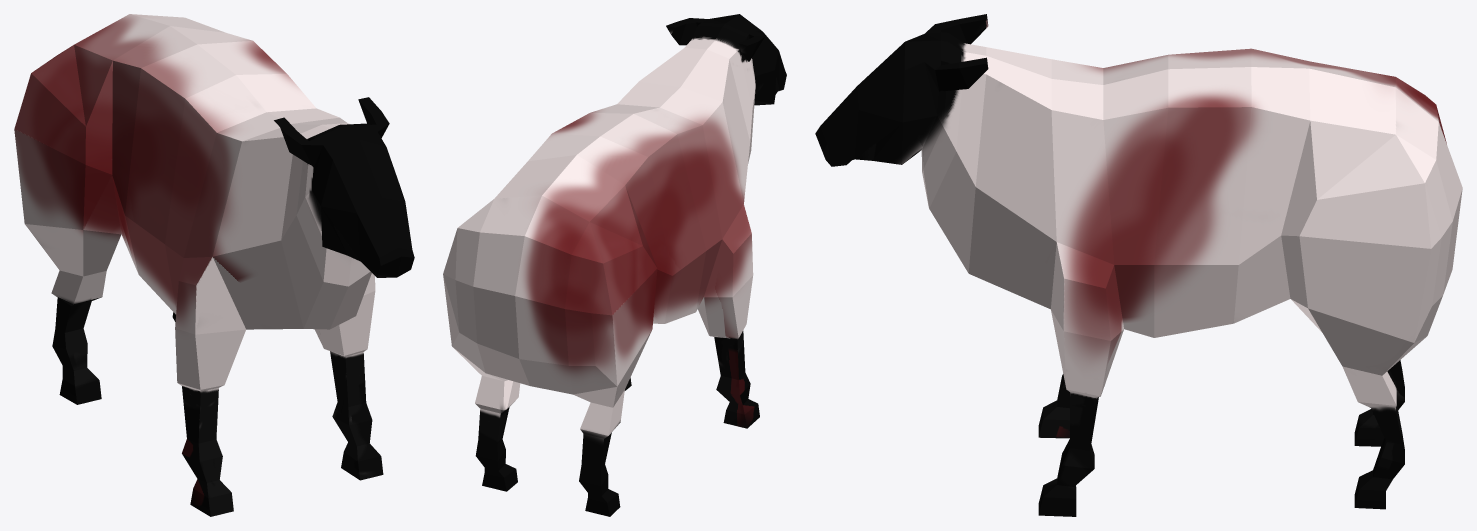
Rendered from Sheep1.fbx.
3 renders of one model, left to right at view 1: azimuth 30°, elevation 25°; view 2: azimuth 150°, elevation 25°; view 3: azimuth 270°, elevation 25°, orthographic. The views are drawn at different scales.
Visible parts, largest first — view 1: Sheep; view 2: Sheep; view 3: Sheep.
Part boxes in pixels (x1,y1,x2,y2): Sheep: [14, 14, 414, 516]; Sheep: [443, 14, 786, 516]; Sheep: [815, 14, 1462, 516].
Bounding box in the file's own units: 222 × 436 × 592.
